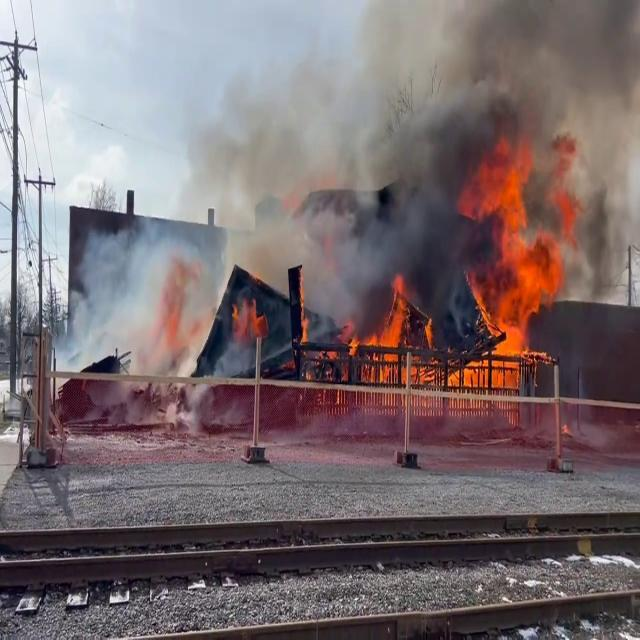Fire: (462, 137, 574, 391), (354, 277, 484, 411), (230, 288, 268, 344)
Smoke: (71, 16, 477, 370), (354, 1, 640, 280), (66, 147, 268, 385)
